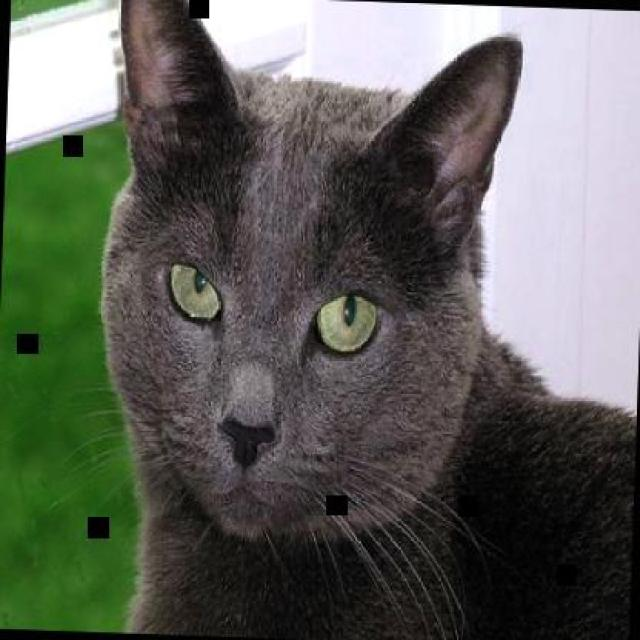cat: (90, 0, 638, 638)
